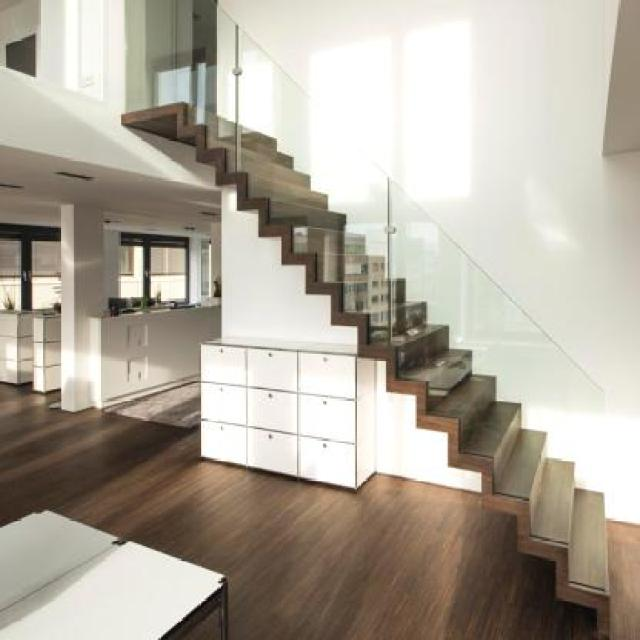stair: (119, 72, 636, 639)
